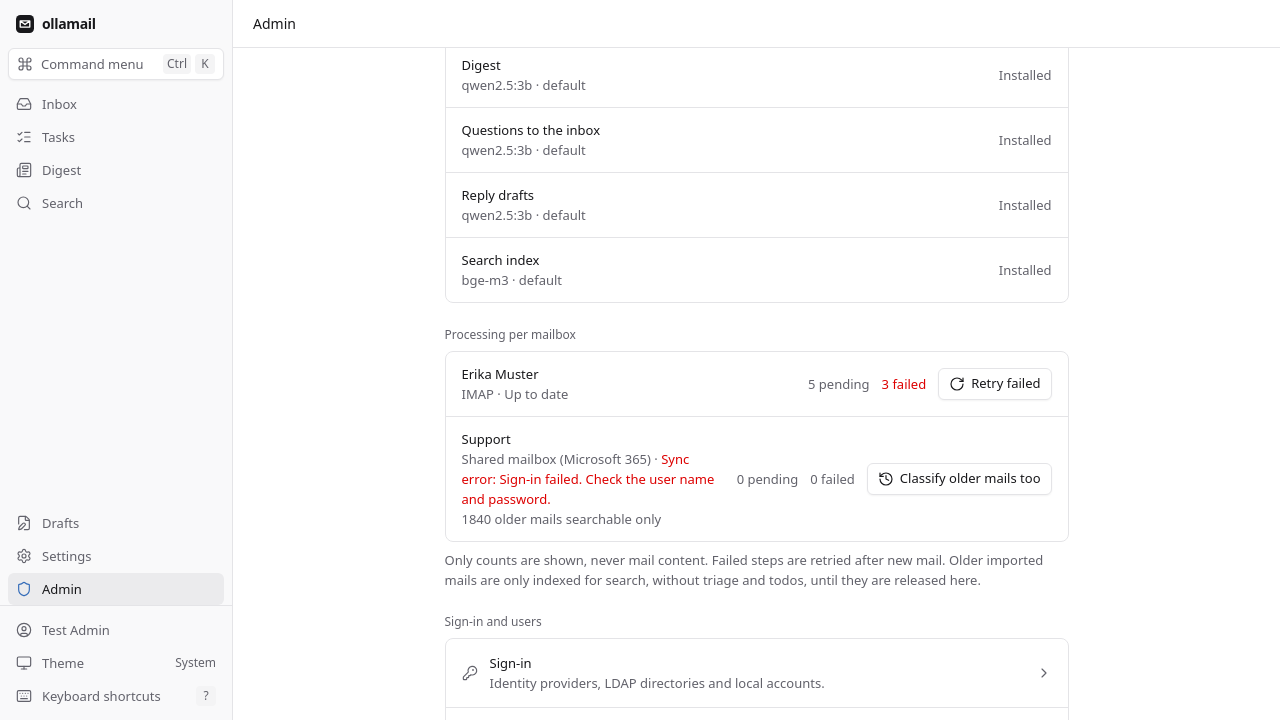
Test: admin overview › lists processing per mailbox and retries failed steps
The image size is (1280, 720).
(page scrolled)
Expected: the heading "Admin" is shown, [253,14,296,34]
Expected: the list item that starts with "Erika Muster" is shown, [462,365,538,383]
Click the button "Retry failed" at (995, 384), box [938,368,1052,400]
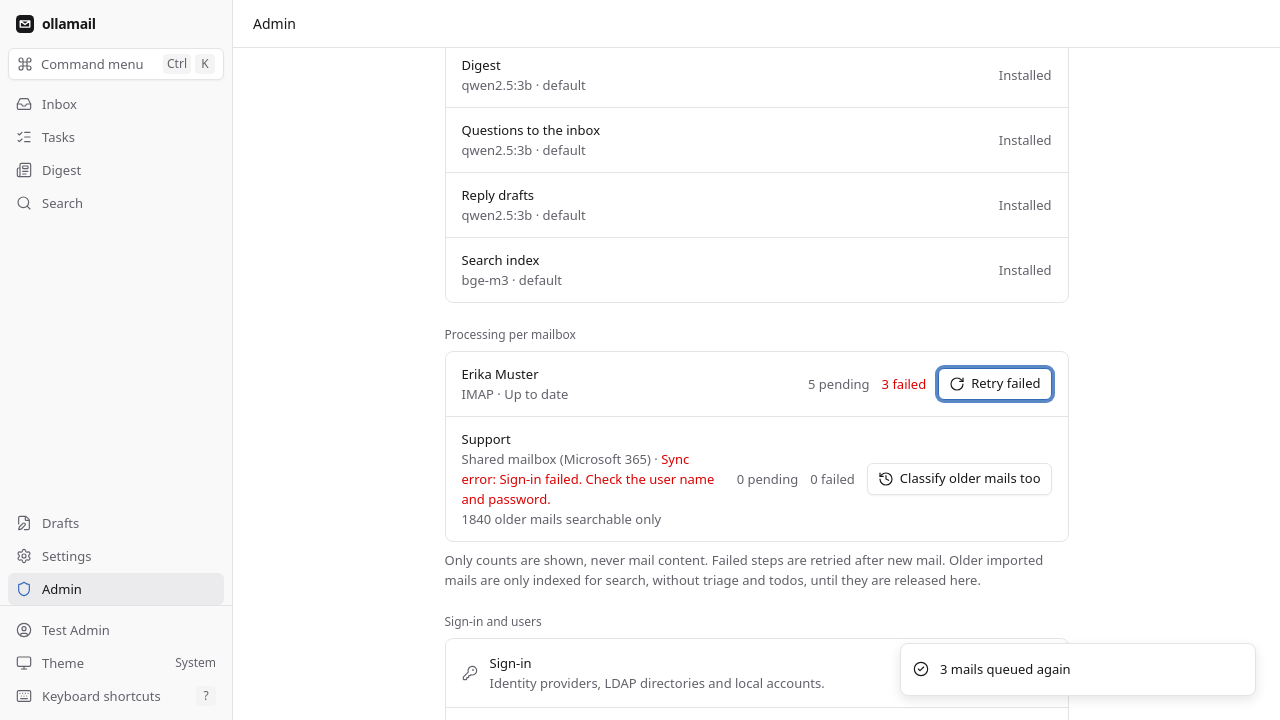
Expected: the text "3 mails queued again" is shown, [940,660,1071,679]
